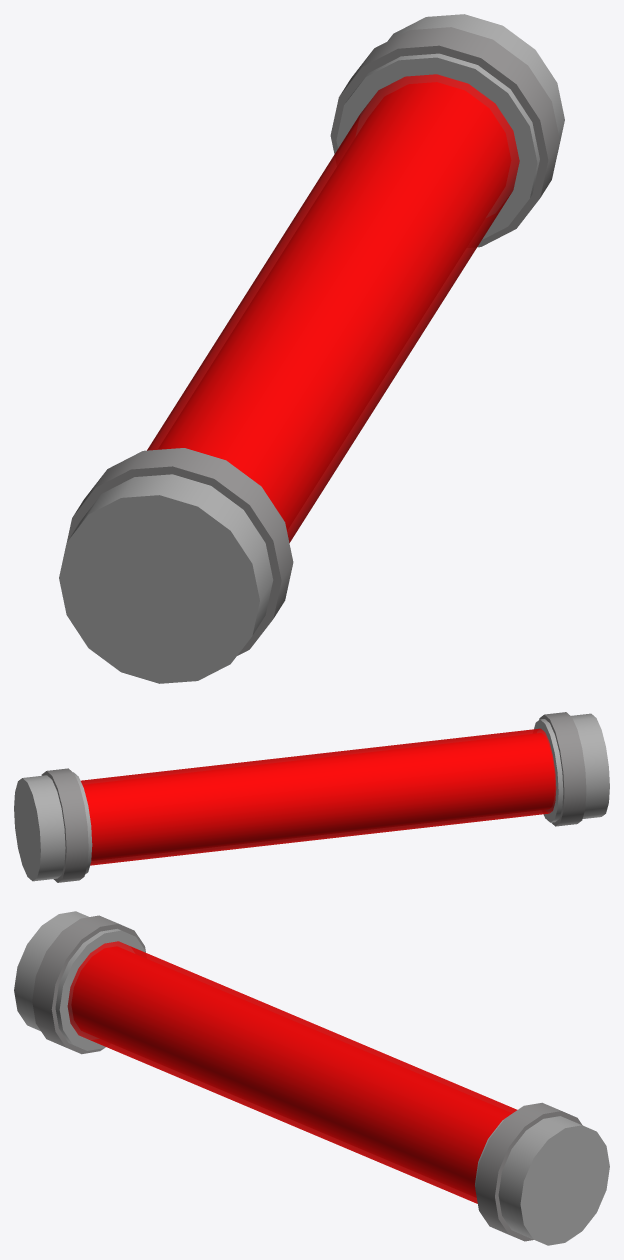
The model's file is CMU3DTreasureSampleTubeDrinksExtraCloudPower.glb.
3 views of the same model, one above another, from view 1: azimuth 30°, elevation 25°; view 2: azimuth 150°, elevation 25°; view 3: azimuth 270°, elevation 25° (orthographic). The views are drawn at different scales.
Parts seen in each view (by area): view 1: translucent tube envelope, continuous sample inner body, closed grey end plug 0, closed grey end plug 1, plug raised collar 1, plug raised collar 0; view 2: translucent tube envelope, continuous sample inner body, closed grey end plug 1, closed grey end plug 0, plug raised collar 1, plug raised collar 0; view 3: translucent tube envelope, continuous sample inner body, closed grey end plug 1, closed grey end plug 0, plug raised collar 0, plug raised collar 1.
Boxes of the visible parts, left/top/right/bottom form: translucent tube envelope: left=147, top=74, right=519, bottom=542; continuous sample inner body: left=159, top=82, right=510, bottom=529; closed grey end plug 0: left=59, top=474, right=273, bottom=683; closed grey end plug 1: left=336, top=14, right=564, bottom=239; plug raised collar 1: left=330, top=27, right=560, bottom=247; plug raised collar 0: left=67, top=448, right=293, bottom=655; translucent tube envelope: left=81, top=728, right=556, bottom=865; continuous sample inner body: left=83, top=733, right=554, bottom=860; closed grey end plug 1: left=14, top=772, right=92, bottom=881; closed grey end plug 0: left=534, top=713, right=609, bottom=822; plug raised collar 1: left=41, top=768, right=88, bottom=882; plug raised collar 0: left=539, top=712, right=586, bottom=826; translucent tube envelope: left=67, top=941, right=517, bottom=1203; continuous sample inner body: left=72, top=947, right=511, bottom=1196; closed grey end plug 1: left=475, top=1116, right=609, bottom=1245; closed grey end plug 0: left=14, top=911, right=145, bottom=1050; plug raised collar 0: left=32, top=915, right=145, bottom=1054; plug raised collar 1: left=475, top=1102, right=582, bottom=1241.
Size of the model in its own units: 0.452 by 0.104 by 0.452.
